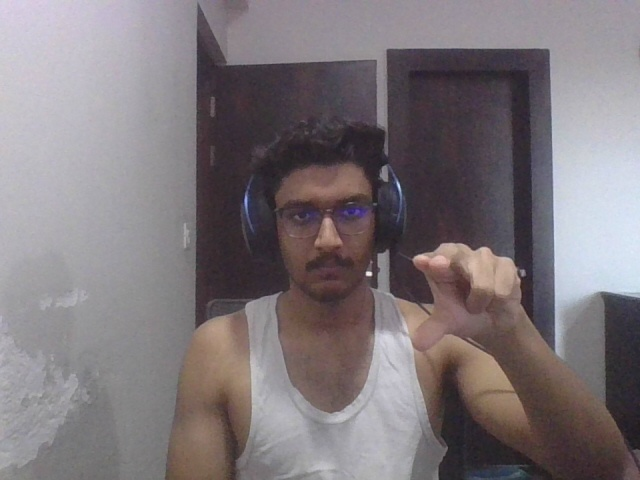No: (387, 228, 551, 361)
